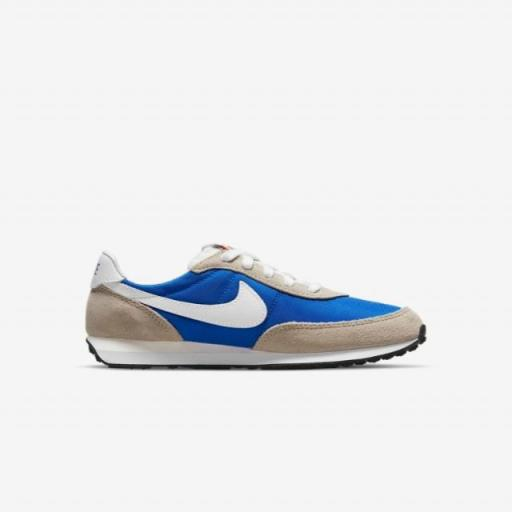Nike: (92, 277, 271, 334)
